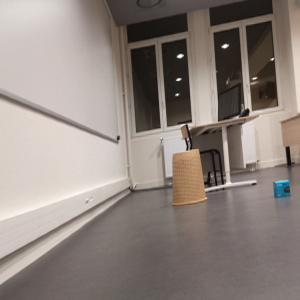medium: (172, 149, 207, 204)
small: (273, 179, 292, 199)
